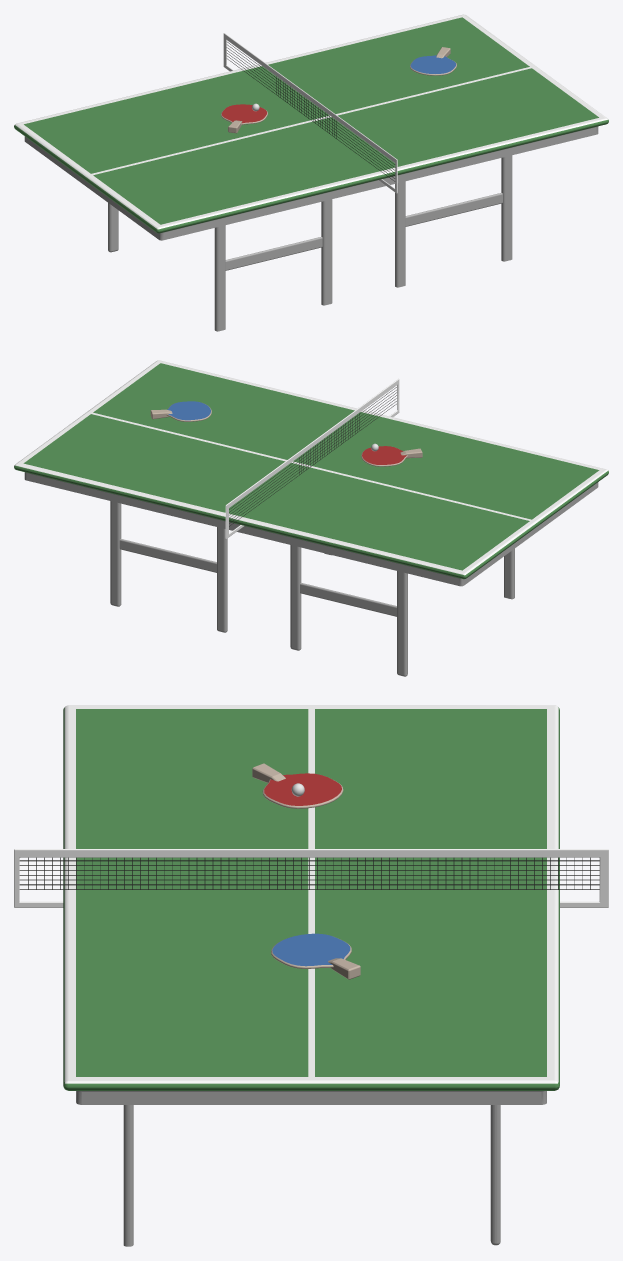
The model's file is table tennis.fbx.
3 views of the same model, one above another, from view 1: azimuth 30°, elevation 25°; view 2: azimuth 150°, elevation 25°; view 3: azimuth 270°, elevation 25° (orthographic). The views are drawn at different scales.
Visible parts, largest first — view 1: table, blue paddle, red paddle; view 2: table, blue paddle, red paddle; view 3: table, blue paddle, red paddle.
Part boxes in pixels (left/top/right/bottom): table: left=14, top=14, right=608, bottom=331; blue paddle: left=410, top=47, right=456, bottom=75; red paddle: left=221, top=104, right=267, bottom=133; table: left=14, top=360, right=608, bottom=676; blue paddle: left=150, top=401, right=211, bottom=421; red paddle: left=361, top=446, right=422, bottom=466; table: left=14, top=705, right=608, bottom=1246; blue paddle: left=271, top=933, right=360, bottom=979; red paddle: left=252, top=763, right=343, bottom=808.
Size of the model in its own units: 221 by 78.85 by 147.
